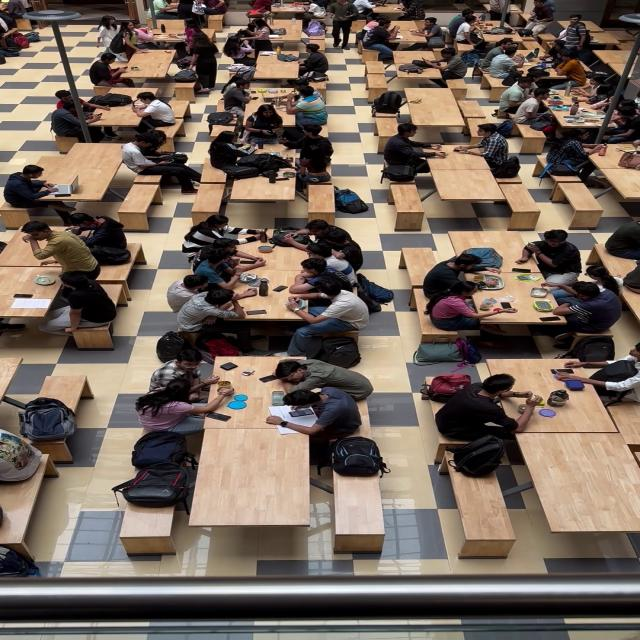Occupied: (414, 240, 624, 352), (482, 358, 620, 427), (0, 268, 129, 341), (433, 374, 541, 444), (203, 270, 337, 326), (196, 364, 304, 431), (16, 144, 130, 204), (281, 277, 370, 346), (133, 379, 237, 437), (264, 387, 369, 444), (424, 280, 523, 334), (535, 279, 625, 337), (118, 133, 201, 195), (0, 232, 135, 270), (273, 360, 375, 403), (556, 346, 640, 398), (146, 351, 224, 401), (174, 287, 255, 334), (512, 230, 582, 284), (422, 252, 496, 302), (543, 127, 608, 181), (279, 220, 360, 262), (381, 122, 442, 177), (48, 97, 115, 147), (207, 235, 295, 273), (540, 95, 620, 136), (180, 218, 269, 254), (446, 230, 532, 267), (191, 247, 261, 291), (206, 131, 267, 179), (1, 170, 69, 212), (289, 254, 355, 296), (114, 49, 178, 92), (294, 124, 336, 184), (165, 269, 219, 314), (128, 90, 177, 136), (86, 101, 163, 130), (282, 85, 330, 131), (186, 35, 220, 96), (507, 87, 555, 130), (321, 229, 365, 273), (420, 146, 496, 171), (542, 51, 591, 89), (324, 0, 362, 49), (358, 17, 397, 63), (421, 47, 469, 83), (243, 105, 285, 146), (87, 54, 135, 89), (598, 104, 640, 144), (220, 81, 254, 128), (554, 12, 590, 56), (222, 32, 260, 72), (54, 90, 110, 116), (573, 80, 619, 111), (121, 20, 158, 57), (294, 44, 330, 82), (479, 38, 520, 71), (407, 16, 444, 52), (155, 26, 218, 46), (450, 15, 486, 50), (243, 17, 274, 57), (589, 48, 639, 72), (575, 27, 626, 50), (3, 0, 42, 30), (95, 15, 123, 56), (139, 129, 175, 160), (264, 26, 309, 50), (390, 49, 445, 68), (480, 2, 521, 27), (536, 39, 570, 66), (175, 0, 207, 26), (476, 26, 524, 42), (269, 4, 311, 21), (394, 0, 426, 22), (182, 17, 207, 45), (350, 0, 377, 23), (150, 0, 178, 22), (246, 0, 276, 20), (368, 4, 409, 18)
Unoccupied: (512, 432, 640, 539), (185, 428, 313, 533), (442, 453, 522, 558), (422, 151, 511, 213), (328, 464, 388, 555), (116, 492, 182, 558), (228, 170, 299, 202), (552, 182, 608, 222), (36, 375, 92, 411), (495, 182, 544, 222), (250, 53, 302, 87), (398, 246, 440, 286), (387, 189, 428, 229), (405, 104, 469, 128), (454, 100, 493, 138), (116, 193, 160, 225), (511, 118, 552, 152), (188, 183, 232, 214), (540, 169, 584, 199), (0, 358, 24, 410), (603, 168, 640, 200), (305, 190, 339, 223), (196, 153, 231, 185), (372, 115, 402, 151), (562, 20, 606, 33), (362, 60, 388, 81), (530, 155, 551, 178), (493, 171, 524, 185), (359, 47, 382, 64), (452, 42, 478, 56), (206, 14, 225, 31)
